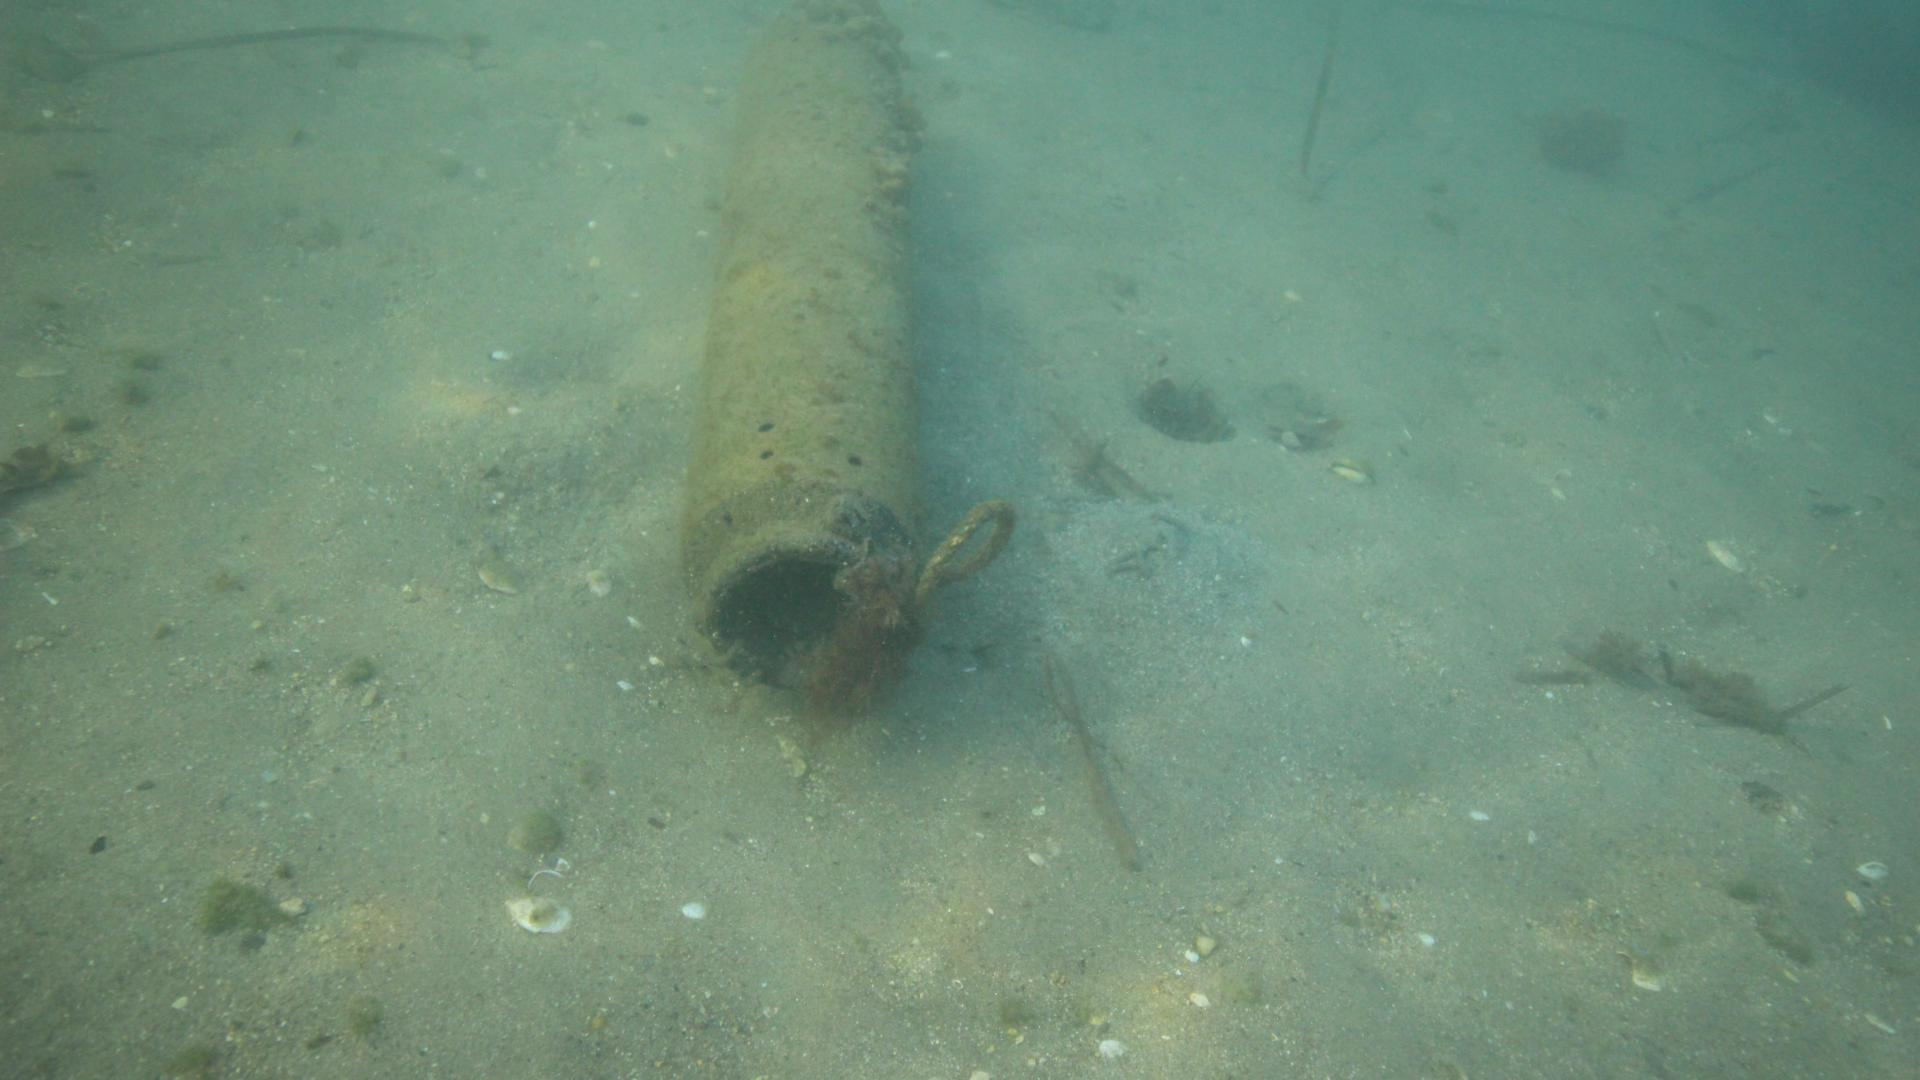eel fish trap: (674, 0, 927, 713)
rope: (914, 498, 1017, 607)
